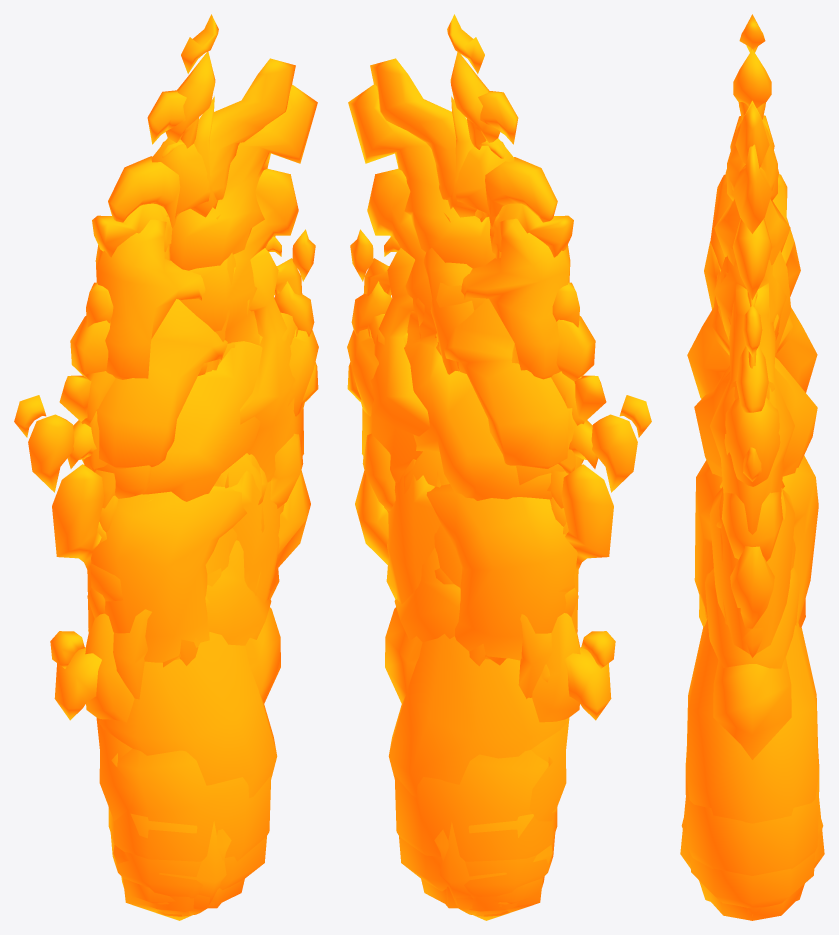
The model's file is FireAnimation.fbx.
The picture shows the model from 3 angles, left to right: view 1: azimuth 30°, elevation 25°; view 2: azimuth 150°, elevation 25°; view 3: azimuth 270°, elevation 25°; orthographic projection. The views are drawn at different scales.
Visible parts, largest first — view 1: flame01, flame02, flame04, flame03, flame16, flame15, flame17, flame13, flame14, flame05, flame11, flame06 (+4 smaller); view 2: flame01, flame02, flame04, flame03, flame16, flame15, flame17, flame13, flame14, flame05, flame11, flame06 (+4 smaller); view 3: flame02, flame03, flame01, flame04, flame15, flame16, flame14, flame13, flame17, flame05, flame09, flame06 (+1 smaller).
Boxes of the visible parts, <box> form: flame01: <box>91,252,271,911</box>; flame02: <box>98,96,277,916</box>; flame04: <box>90,14,296,913</box>; flame03: <box>88,52,303,915</box>; flame16: <box>67,84,317,904</box>; flame15: <box>85,168,318,920</box>; flame17: <box>59,58,318,860</box>; flame13: <box>14,362,284,821</box>; flame14: <box>87,248,303,809</box>; flame05: <box>82,156,314,903</box>; flame11: <box>52,464,181,751</box>; flame06: <box>70,90,315,766</box>; flame01: <box>394,248,577,911</box>; flame02: <box>388,96,567,916</box>; flame04: <box>369,14,575,898</box>; flame03: <box>362,52,577,915</box>; flame16: <box>348,84,598,905</box>; flame15: <box>347,168,580,920</box>; flame17: <box>347,58,606,861</box>; flame13: <box>384,362,651,821</box>; flame14: <box>362,248,578,812</box>; flame05: <box>351,157,583,903</box>; flame11: <box>485,464,613,751</box>; flame06: <box>350,90,595,766</box>; flame02: <box>686,100,818,823</box>; flame03: <box>687,49,817,759</box>; flame01: <box>685,250,819,875</box>; flame04: <box>690,14,814,908</box>; flame15: <box>714,219,790,486</box>; flame16: <box>680,144,824,916</box>; flame14: <box>710,283,794,534</box>; flame13: <box>709,487,794,654</box>; flame17: <box>681,104,823,838</box>; flame05: <box>699,115,805,627</box>; flame09: <box>710,886,801,920</box>; flame06: <box>738,102,765,356</box>.
Size of the model in its own units: 4.17 by 11.76 by 1.67.
